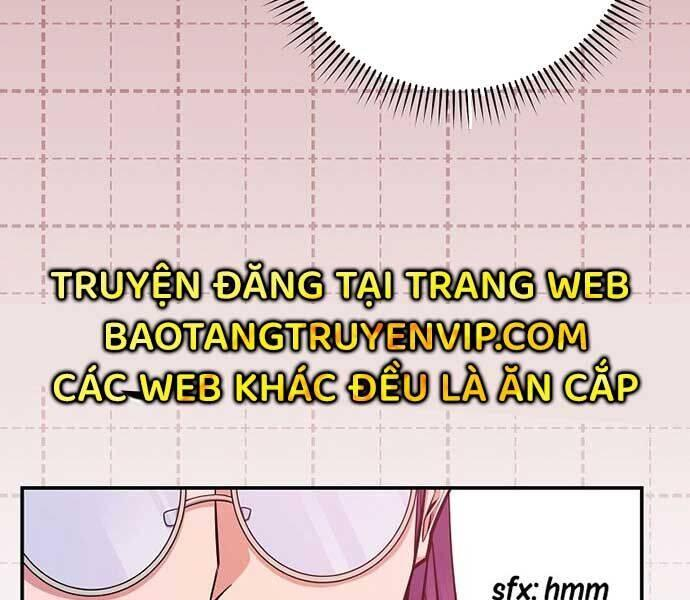quangcao: (47, 258, 642, 407)
